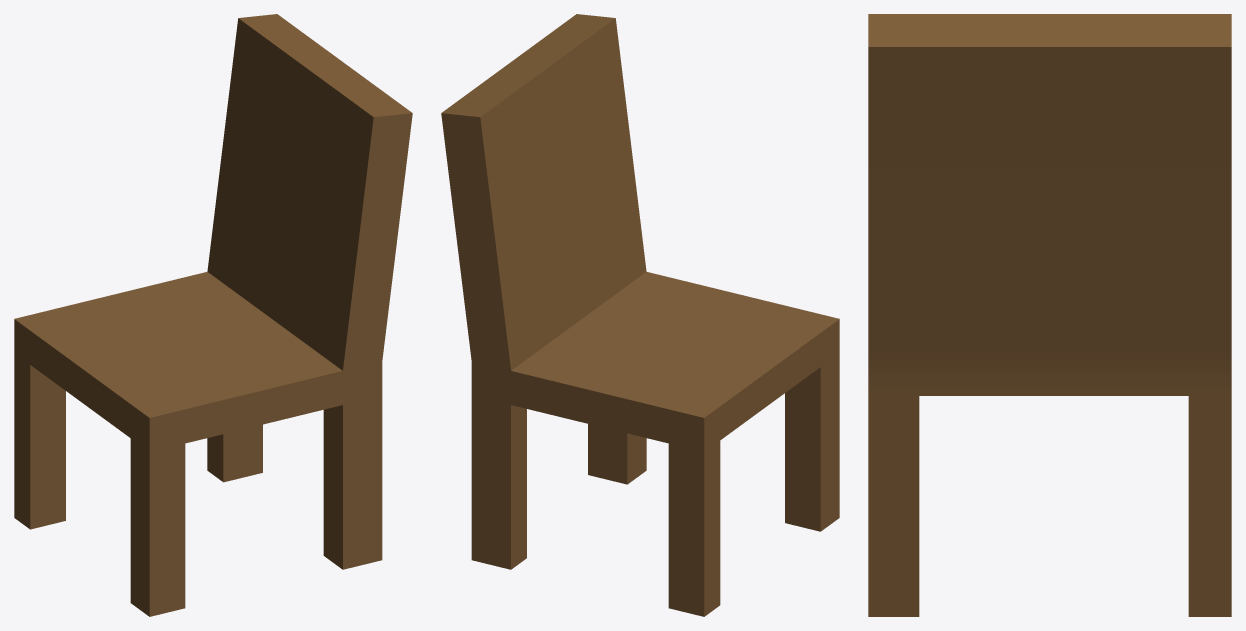
The model's file is Chair.fbx.
The picture shows the model from 3 angles, left to right: view 1: azimuth 30°, elevation 25°; view 2: azimuth 150°, elevation 25°; view 3: azimuth 270°, elevation 25°; orthographic projection. The views are drawn at different scales.
Visible parts, largest first — view 1: pCube2; view 2: pCube2; view 3: pCube2.
Part boxes in pixels (left/top/right/bottom): pCube2: left=14, top=14, right=412, bottom=616; pCube2: left=441, top=14, right=839, bottom=616; pCube2: left=868, top=14, right=1231, bottom=616.
Size of the model in its own units: 5.45 by 8.81 by 4.86.
